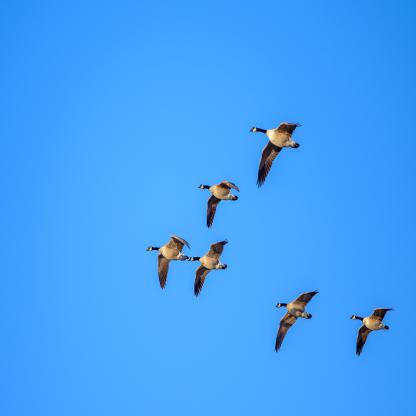bird: (249, 122, 302, 189), (274, 291, 320, 353), (145, 233, 191, 290), (188, 239, 230, 298), (350, 308, 394, 358), (198, 180, 240, 229)
